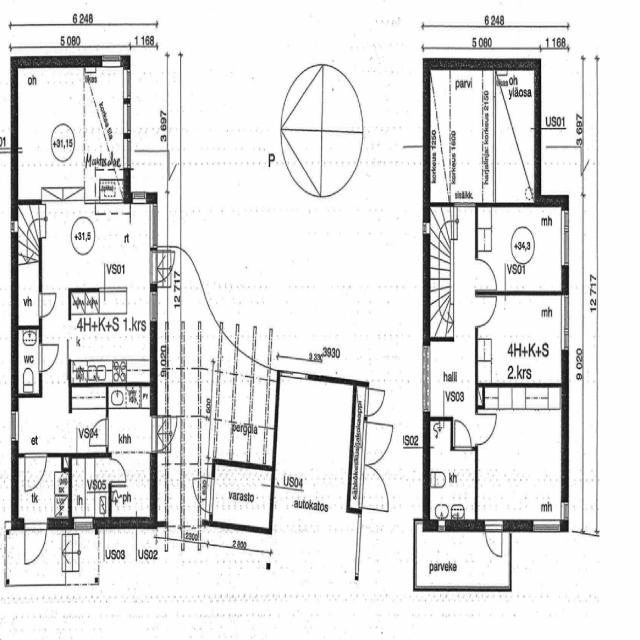door: (25, 518, 46, 566), (150, 418, 178, 451), (190, 477, 214, 513), (25, 454, 46, 492), (150, 252, 176, 282), (485, 520, 502, 558), (475, 415, 496, 445), (475, 298, 496, 328), (475, 260, 496, 289), (39, 345, 58, 372), (454, 421, 471, 451), (90, 420, 109, 446), (39, 294, 56, 318), (108, 460, 125, 482)
